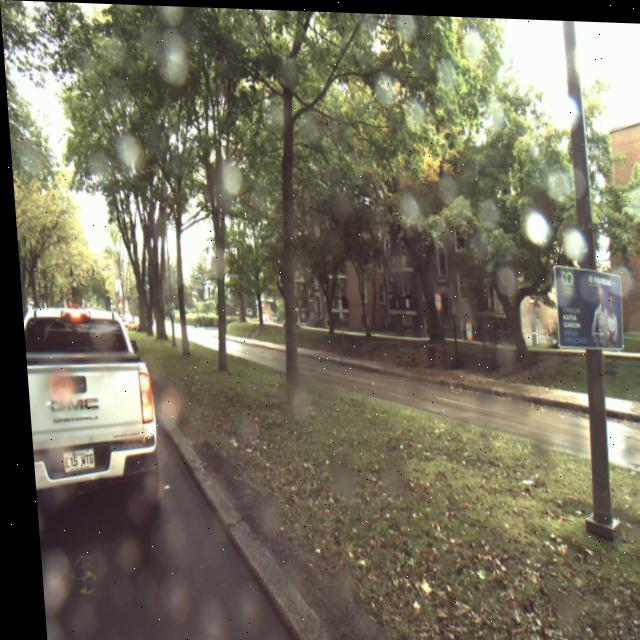car: (18, 305, 153, 506)
